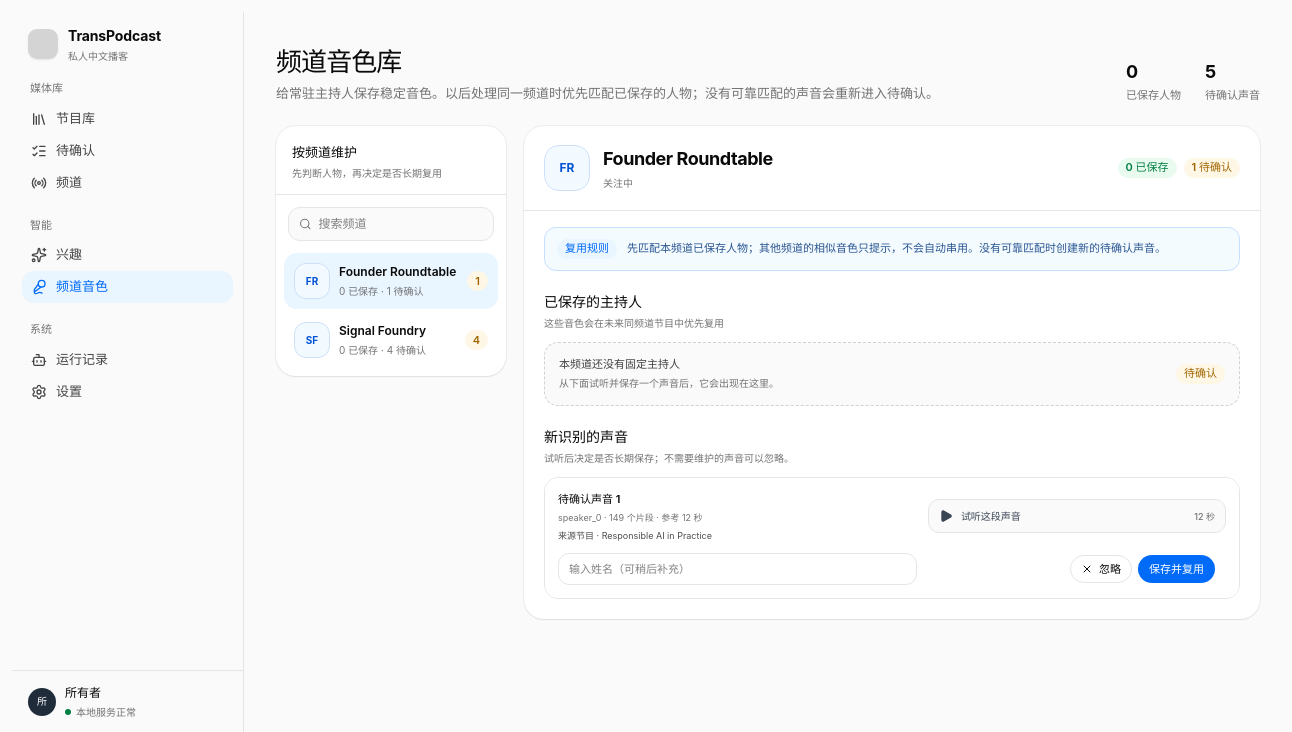
Test: maintains a reusable Speaker Profile for the selected channel
The image size is (1292, 732).
Expected: the heading "频道音色库" is shown, [276,46,402,77]
Expected: the search field labelled "搜索频道" is shown, [318,215,483,233]
Click the button "忽略". click: (1101, 569)
box: [1070,555,1132,583]
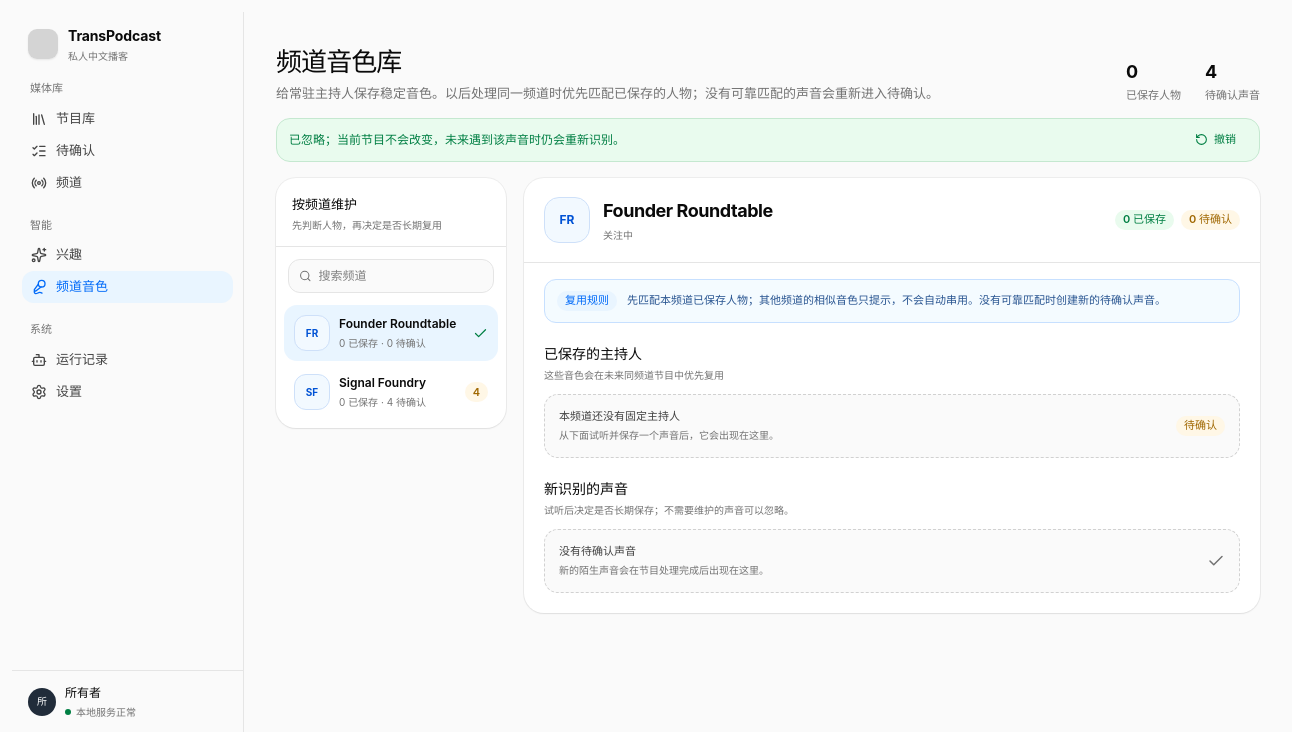
Expected: the text "已忽略；当前节目不会改变，未来遇到该声音时仍会重新识别。" is shown, [289,132,625,147]
Click the button "撤销". click: (1216, 140)
box: [1184,126,1247,154]
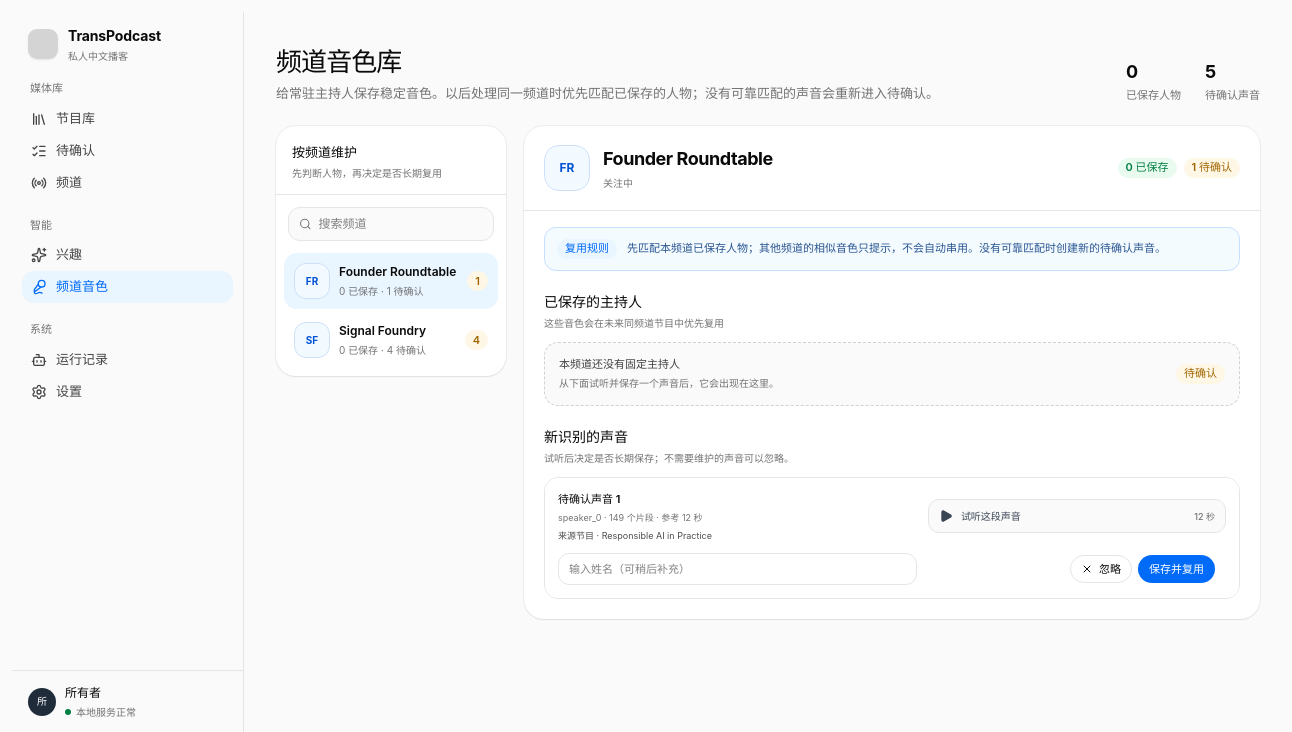
Expected: the button "试听这段声音 12 秒" is shown, [928,499,1226,533]
Type "Jordan Vale" into the field with placeholder "输入姓名（可稍后补充）". click: (737, 569)
box: [558,553,917,585]
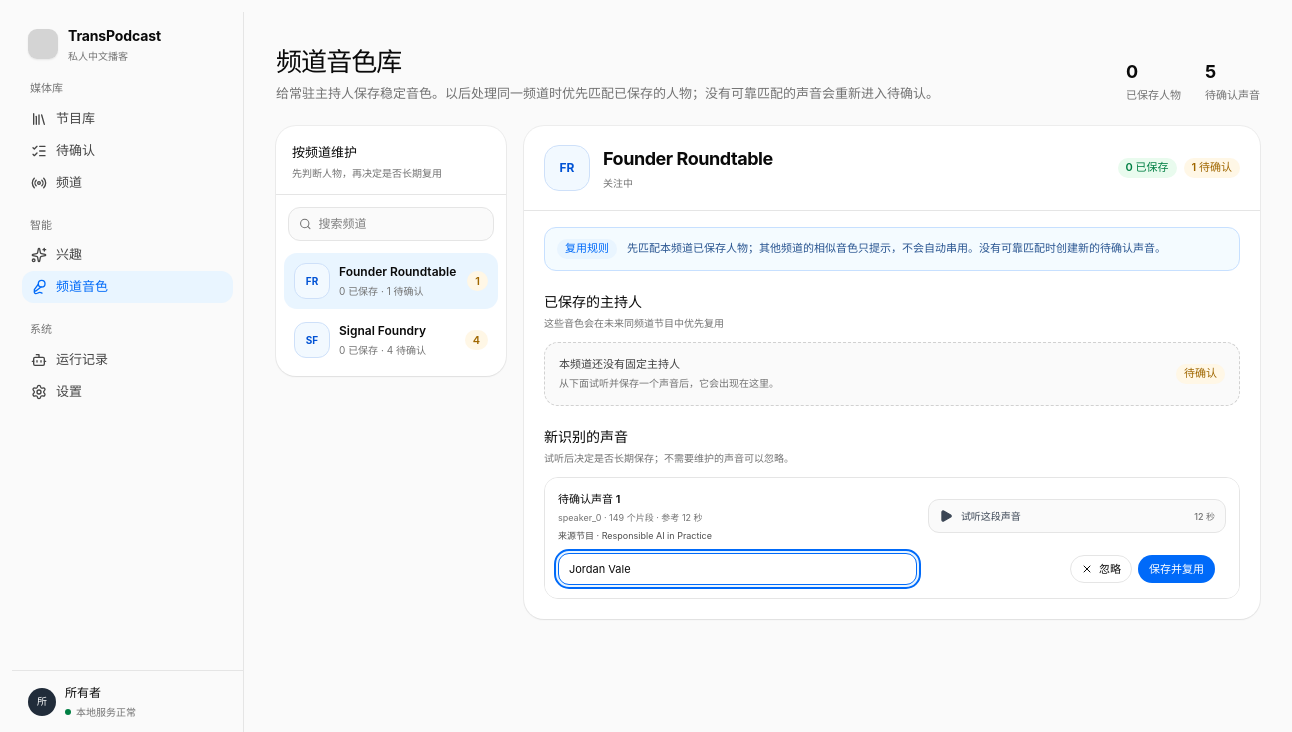
Click the button "保存并复用". click: (1176, 569)
box: [1138,555,1215,583]
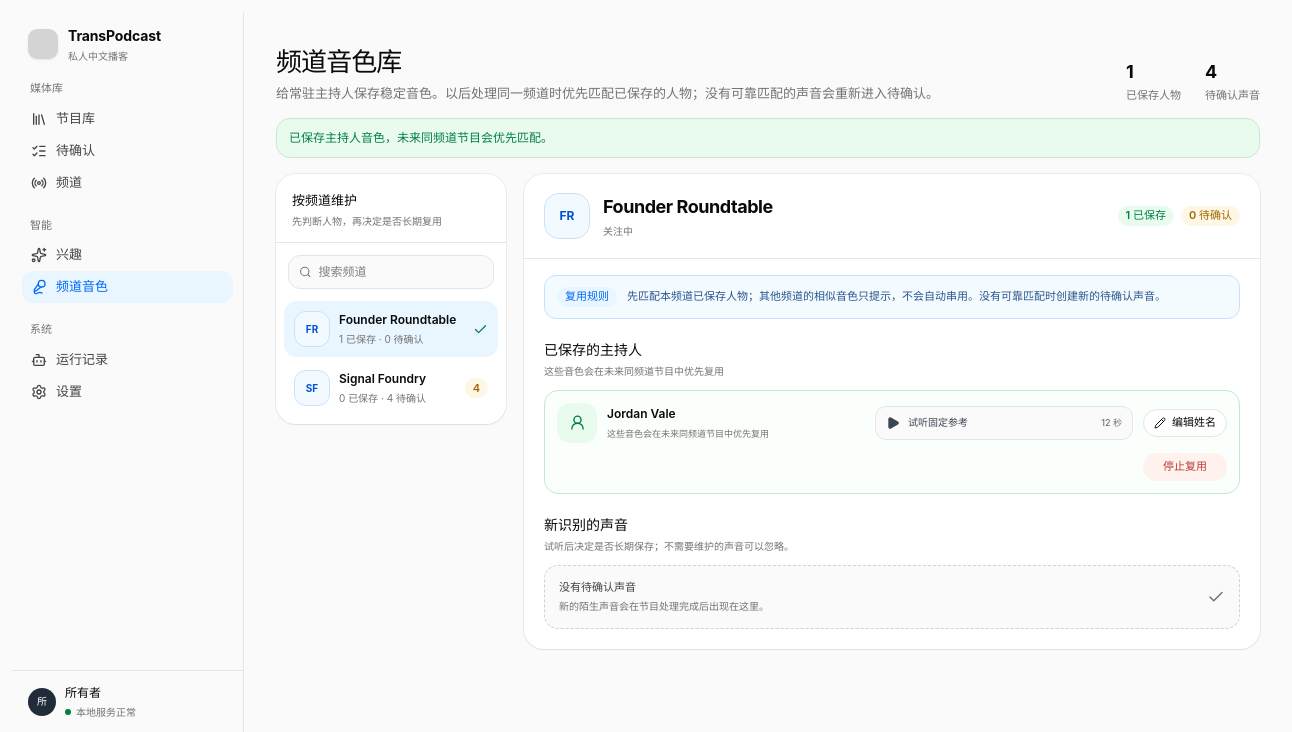
Expected: the text "Jordan Vale" is shown, [607,406,676,421]
Expected: the button "试听固定参考 12 秒" is shown, [875,406,1133,440]
Click the button "停止复用". click: (1185, 467)
box: [1143,453,1227,481]
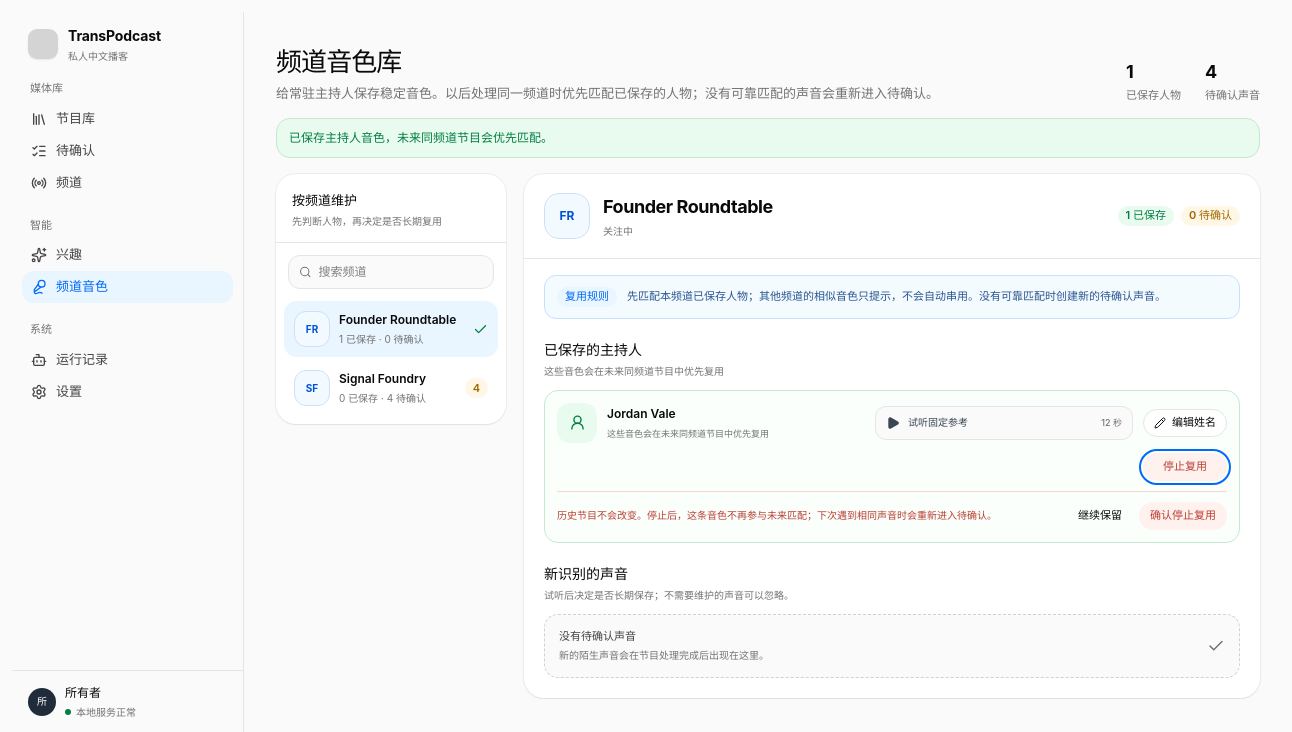
Expected: the text "历史节目不会改变。停止后，这条音色不再参与未来匹配；下次遇到相同声音时会重新进入待确认。" is shown, [557,508,1055,523]
Click the button "确认停止复用". click: (1183, 516)
box: [1139,502,1227,530]
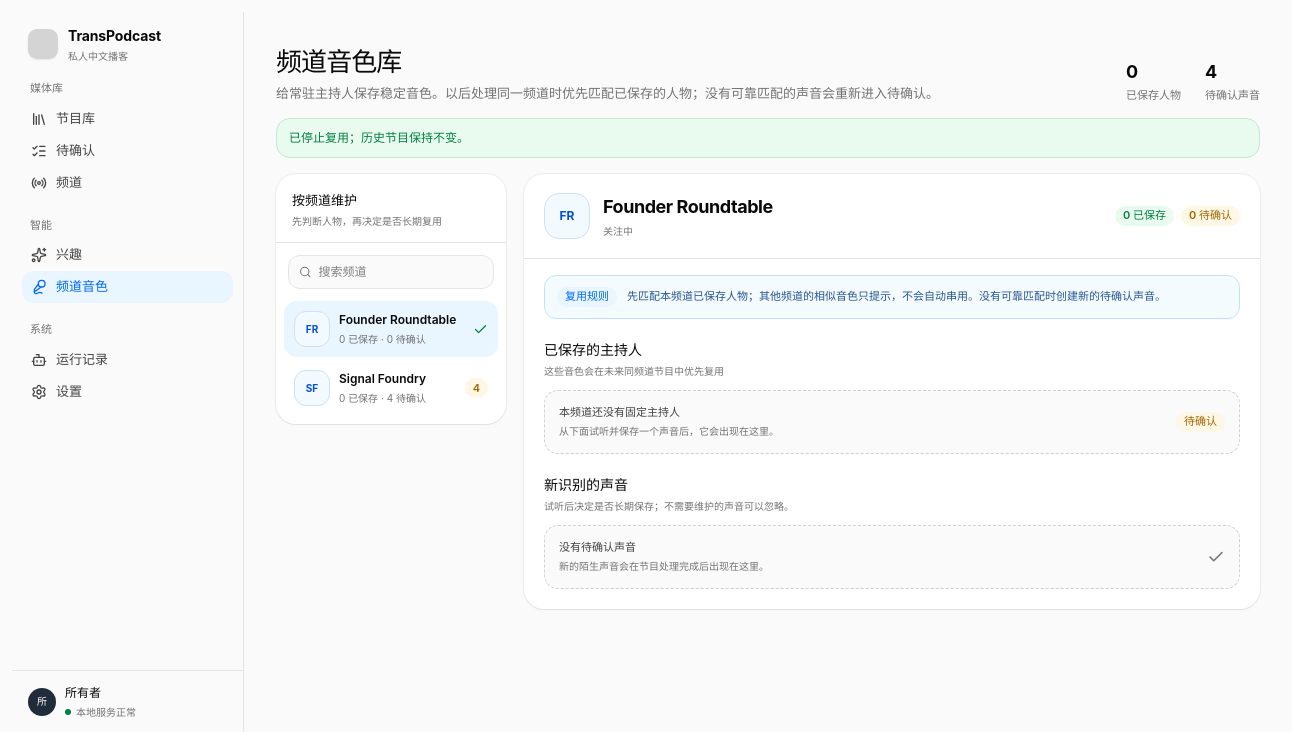
Expected: the text "本频道还没有固定主持人" is shown, [559,405,680,419]
